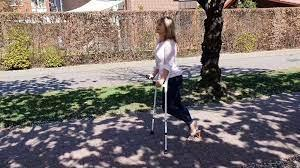crutches: (145, 16, 201, 155)
